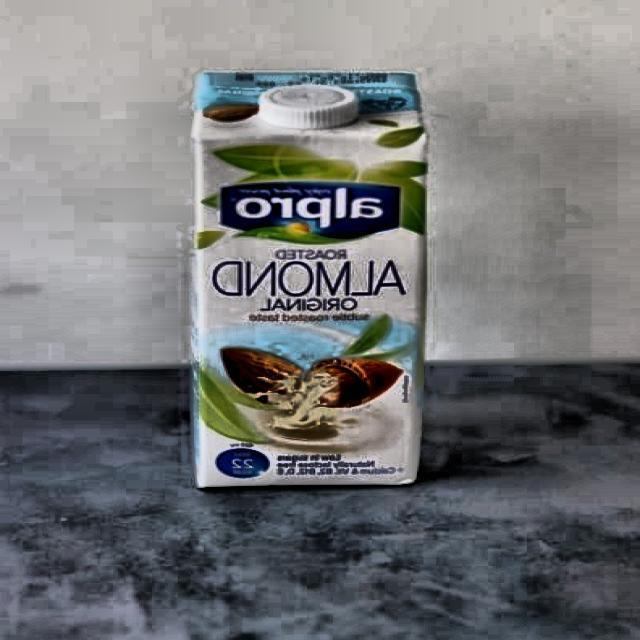cardboard: (191, 71, 430, 487)
